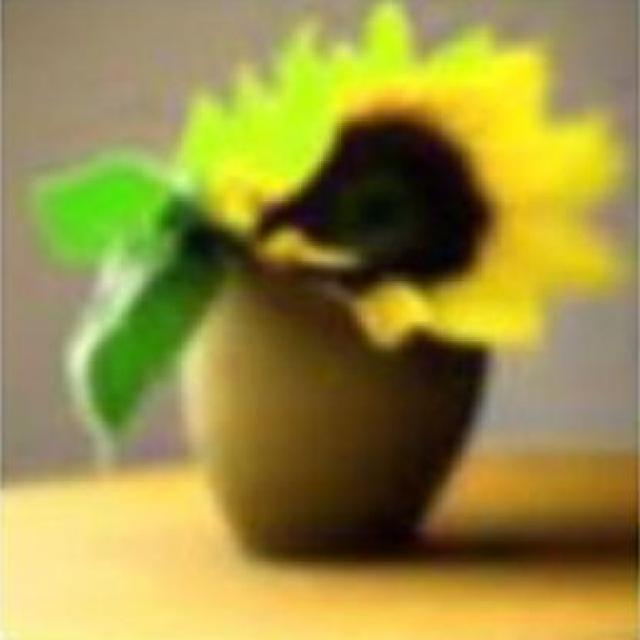sunflower: (177, 6, 628, 358)
